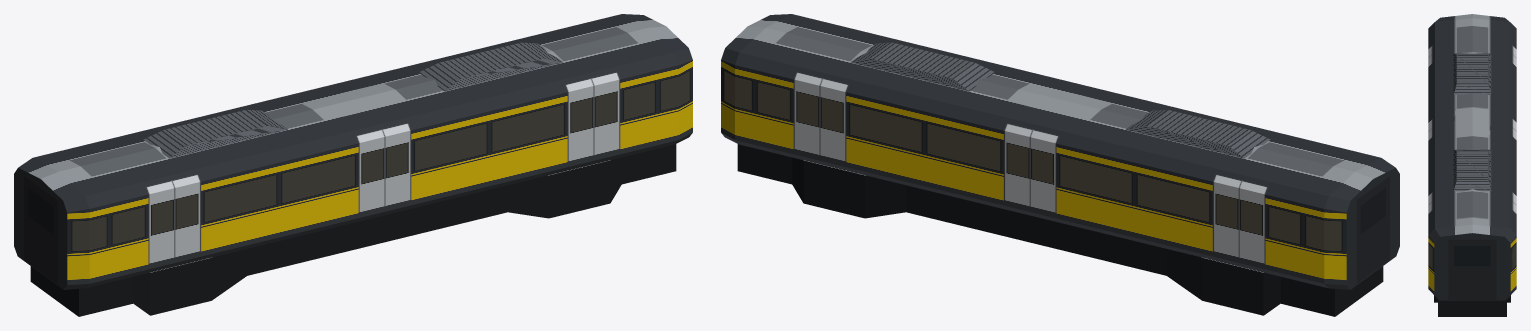
Rendered from bvg_grossprofil__neutral.glb.
3 renders of one model, left to right at view 1: azimuth 30°, elevation 25°; view 2: azimuth 150°, elevation 25°; view 3: azimuth 270°, elevation 25°, orthographic. The views are drawn at different scales.
Visible parts, largest first — view 1: bvg_grossprofil__neutral; view 2: bvg_grossprofil__neutral; view 3: bvg_grossprofil__neutral.
Boxes of the visible parts, box(x1,y1,x2,y2) form: bvg_grossprofil__neutral: box(14, 14, 692, 316); bvg_grossprofil__neutral: box(721, 14, 1399, 316); bvg_grossprofil__neutral: box(1428, 14, 1516, 316).
Bounding box in the file's own units: 15.5 × 3.45 × 2.65.
1 material, 1 textured.
